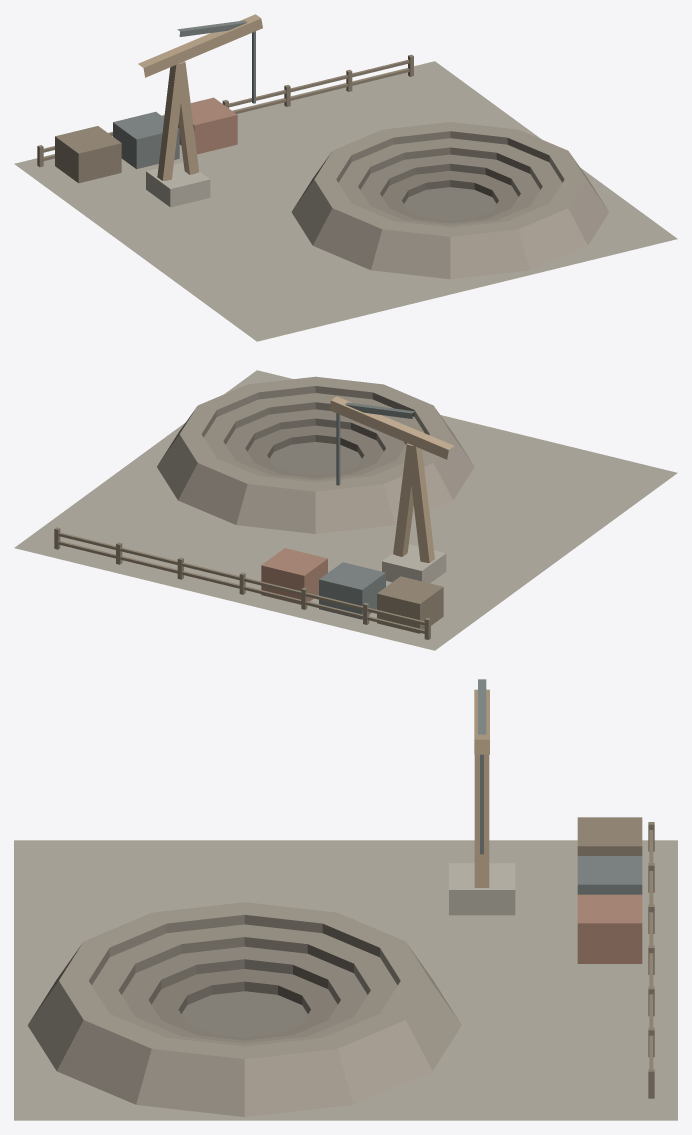
3 renders of one model, top to bottom at view 1: azimuth 30°, elevation 25°; view 2: azimuth 150°, elevation 25°; view 3: azimuth 270°, elevation 25°, orthographic. The views are drawn at different scales.
Visible parts, largest first — view 1: Near, Far; view 2: Near, Mid; view 3: Near, Mid.
Part boxes in pixels (<box>): Near: <box>14,14,677,341</box>; Far: <box>404,196,490,220</box>; Near: <box>14,370,677,650</box>; Mid: <box>272,443,360,474</box>; Near: <box>14,679,677,1120</box>; Mid: <box>181,1003,307,1037</box>.
Size of the model in its own units: 4 by 1.48 by 4.
